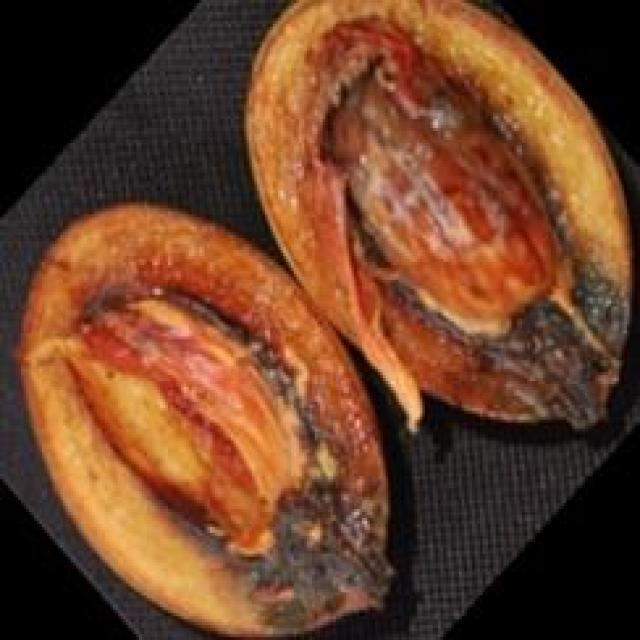damaged: (244, 0, 627, 426), (16, 202, 391, 634)
